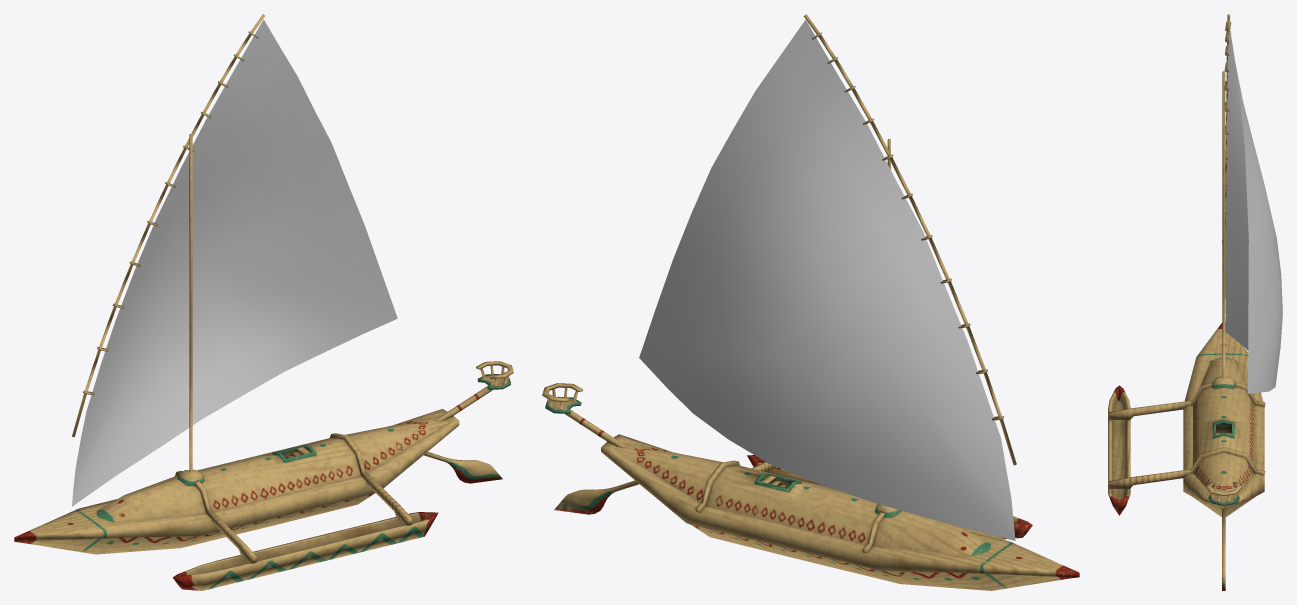
Rendered from Sail.glb.
The picture shows the model from 3 angles, left to right: view 1: azimuth 30°, elevation 25°; view 2: azimuth 150°, elevation 25°; view 3: azimuth 270°, elevation 25°; orthographic projection. The views are drawn at different scales.
Visible parts, largest first — view 1: Cube; view 2: Cube; view 3: Cube.
Part boxes in pixels (bbox=[...]): Cube: bbox=[14, 14, 513, 590]; Cube: bbox=[542, 14, 1079, 590]; Cube: bbox=[1108, 14, 1282, 590].
Size of the model in its own units: 15.9 by 15.88 by 5.32.
Materials: 2 (1 with a texture image).
